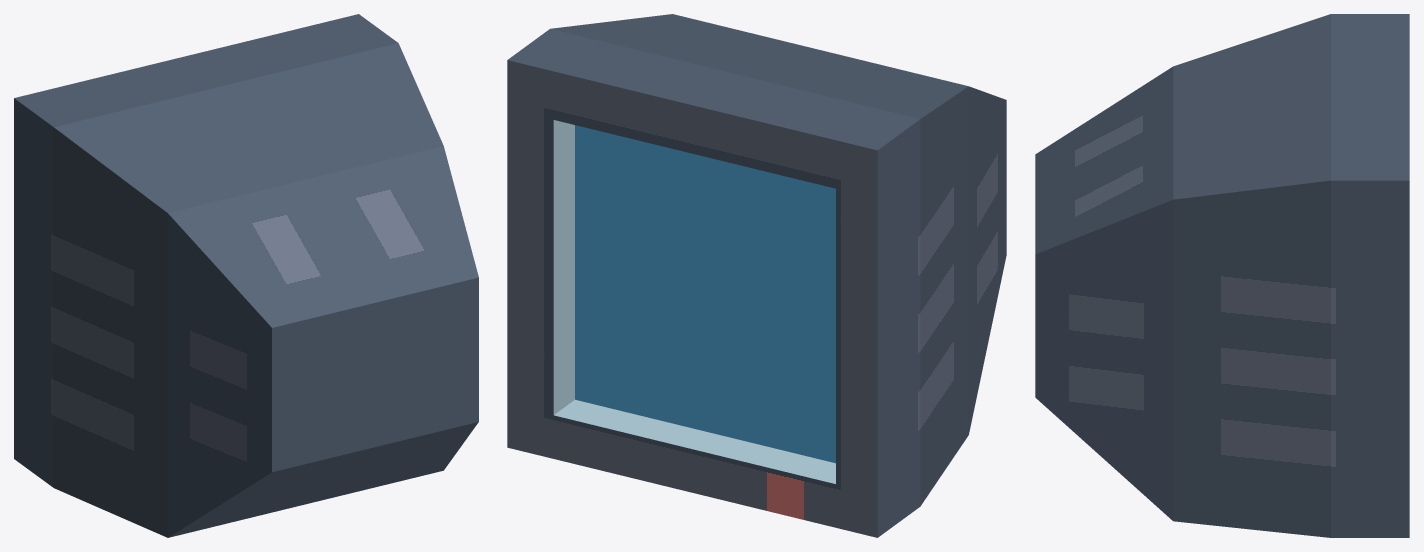
The model's file is crt.fbx.
3 renders of one model, left to right at view 1: azimuth 30°, elevation 25°; view 2: azimuth 150°, elevation 25°; view 3: azimuth 270°, elevation 25°, orthographic. The views are drawn at different scales.
Parts seen in each view (by area): view 1: cuboid; view 2: cuboid; view 3: cuboid.
Part boxes in pixels (x1=…): cuboid: x1=14, y1=14, x2=478, y2=537; cuboid: x1=507, y1=14, x2=1006, y2=537; cuboid: x1=1035, y1=14, x2=1409, y2=537.
Bounding box in the file's own units: 31.25 × 31.25 × 29.69.
Materials: 1 (1 with a texture image).
